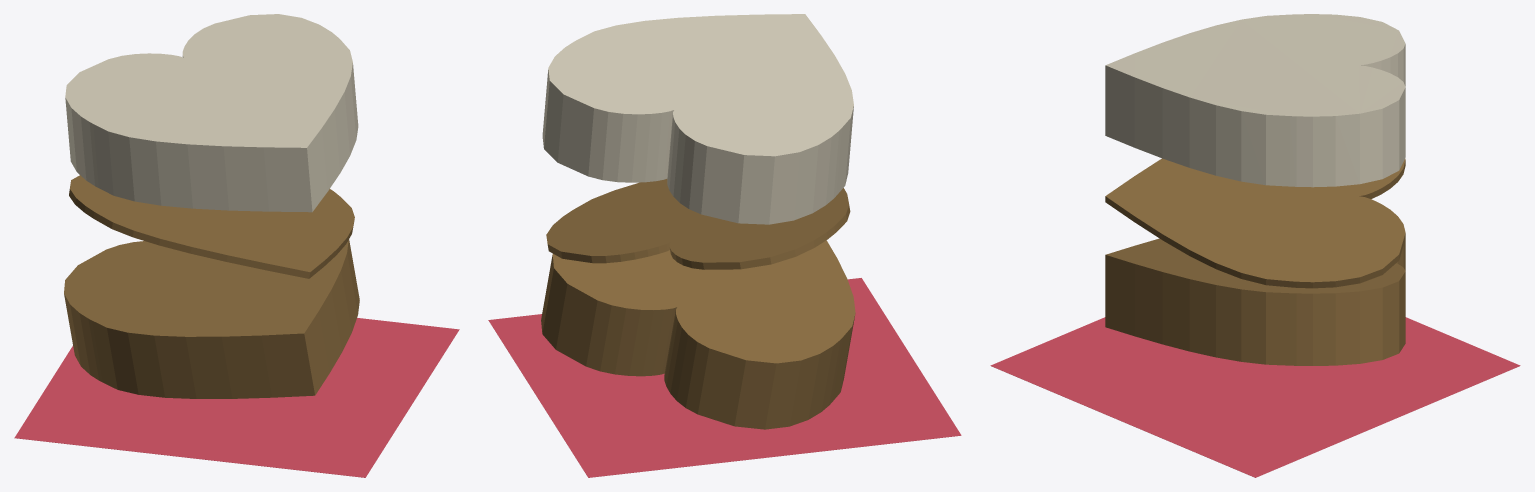
File: CCV.glb
3 views of the same model, side by side, from view 1: azimuth 30°, elevation 25°; view 2: azimuth 150°, elevation 25°; view 3: azimuth 270°, elevation 25° (orthographic). The views are drawn at different scales.
Visible parts, largest first — view 1: Mesh_Mesh_head_geo.001_lambert2SG.001; view 2: Mesh_Mesh_head_geo.001_lambert2SG.001; view 3: Mesh_Mesh_head_geo.001_lambert2SG.001.
Boxes of the visible parts, <box> form: Mesh_Mesh_head_geo.001_lambert2SG.001: <box>14,14,459,477</box>; Mesh_Mesh_head_geo.001_lambert2SG.001: <box>488,14,961,477</box>; Mesh_Mesh_head_geo.001_lambert2SG.001: <box>990,14,1520,477</box>.
Size of the model in its own units: 0.0354 by 0.0229 by 0.0354.
